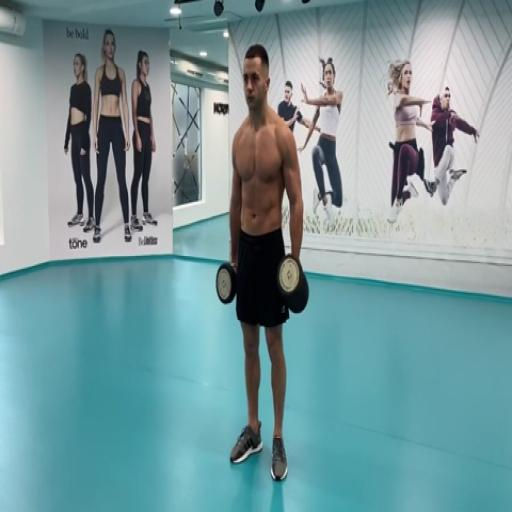exercise: (224, 43, 308, 485), (88, 27, 134, 246), (383, 57, 437, 227), (296, 56, 346, 218), (426, 83, 481, 209), (61, 51, 96, 235), (128, 47, 160, 235)
